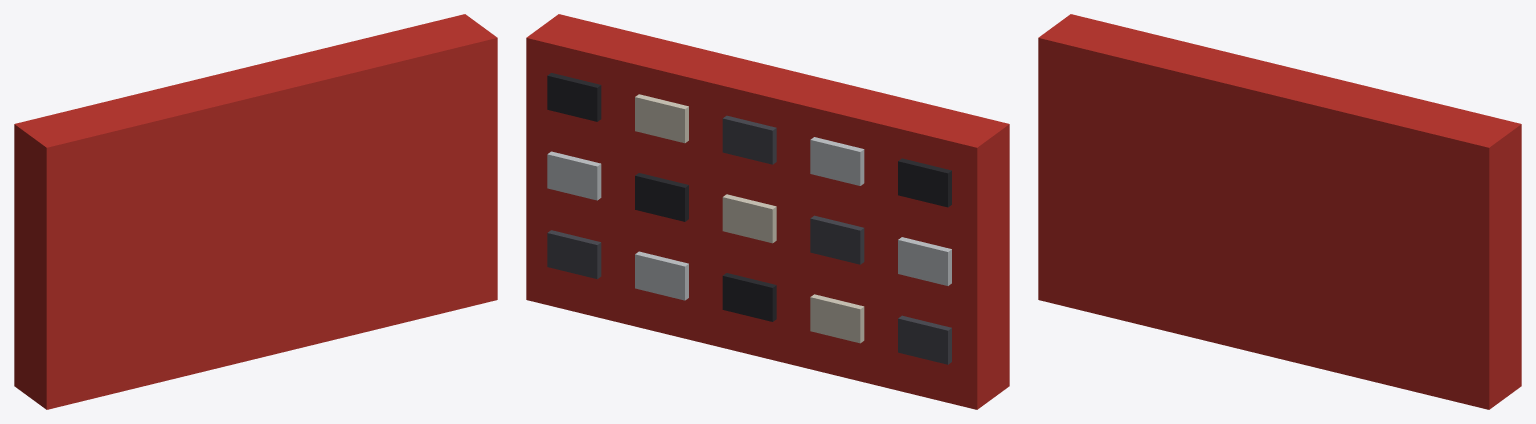
The model's file is gadget_shelf.glb.
The picture shows the model from 3 angles, left to right: view 1: azimuth 30°, elevation 25°; view 2: azimuth 150°, elevation 25°; view 3: azimuth 330°, elevation 25°; orthographic projection.
Visible parts, largest first — view 1: Box1; view 2: Box1, Box5, Box14, Box2, Box7, Box9, Box12, Box15, Box4, Box10, Box3, Box6 (+4 smaller); view 3: Box1.
Part boxes in pixels (left/top/right/bottom): Box1: left=14, top=14, right=497, bottom=409; Box1: left=526, top=14, right=1009, bottom=409; Box5: left=810, top=294, right=864, bottom=343; Box14: left=722, top=115, right=776, bottom=164; Box2: left=547, top=230, right=601, bottom=279; Box7: left=547, top=151, right=601, bottom=200; Box9: left=722, top=194, right=776, bottom=243; Box12: left=547, top=73, right=601, bottom=121; Box15: left=810, top=137, right=864, bottom=185; Box4: left=722, top=273, right=776, bottom=321; Box10: left=810, top=215, right=864, bottom=264; Box3: left=635, top=251, right=688, bottom=300; Box6: left=898, top=315, right=951, bottom=364; Box1: left=1038, top=14, right=1521, bottom=409.
Bounding box in the file's own units: 3.6 × 2 × 0.505.
